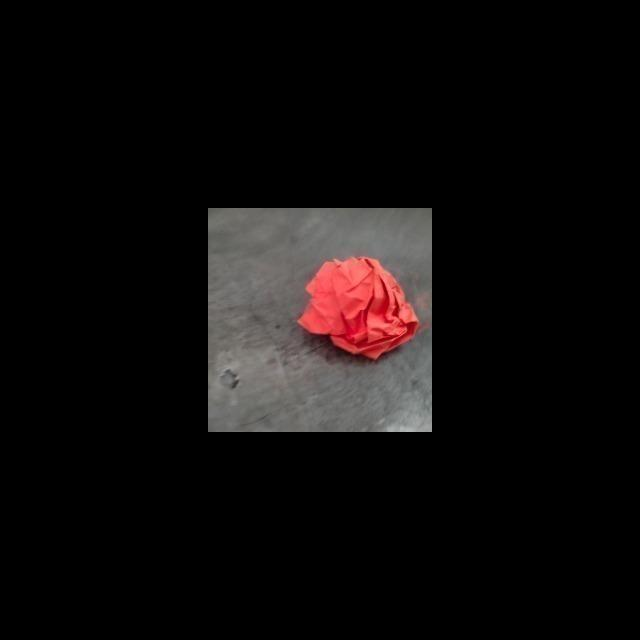paper: (289, 236, 432, 376)
